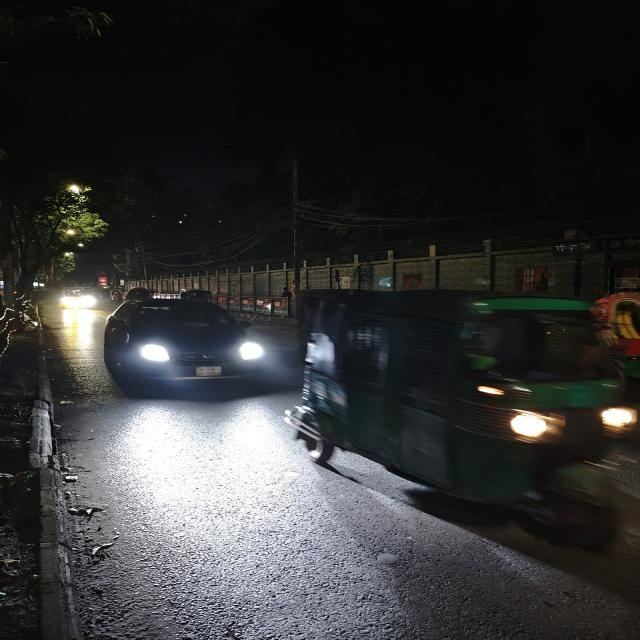car: (96, 296, 272, 402)
cng: (282, 290, 640, 516)
rickshaw: (587, 286, 640, 372)
